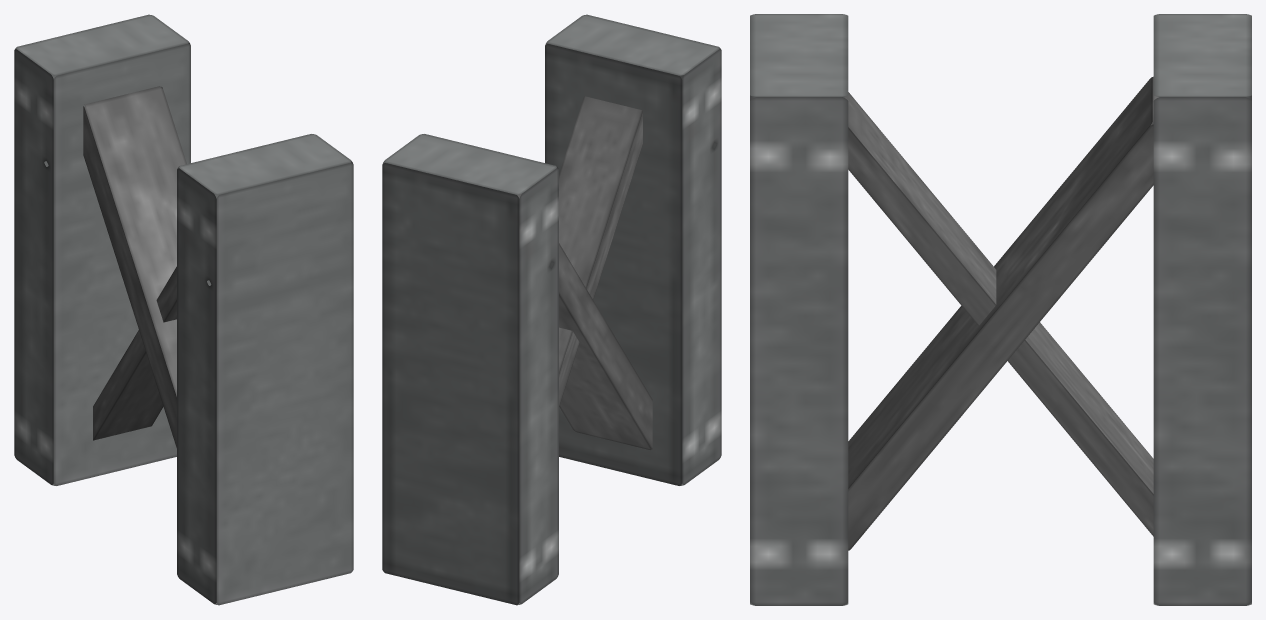
Rendered from Bigas.fbx.
3 renders of one model, left to right at view 1: azimuth 30°, elevation 25°; view 2: azimuth 150°, elevation 25°; view 3: azimuth 270°, elevation 25°, orthographic. The views are drawn at different scales.
Visible parts, largest first — view 1: cube_3, cube, cube_2, cube_1; view 2: cube, cube_3, cube_1, cube_2; view 3: cube, cube_3, cube_2, cube_1.
Part boxes in pixels (x1,y1,x2,y2): cube_3: [177, 134, 353, 605]; cube: [14, 14, 190, 485]; cube_2: [83, 86, 186, 447]; cube_1: [93, 266, 176, 440]; cube: [382, 134, 558, 605]; cube_3: [545, 14, 721, 485]; cube_1: [559, 96, 642, 406]; cube_2: [517, 194, 652, 449]; cube: [1153, 14, 1251, 605]; cube_3: [750, 14, 848, 605]; cube_2: [848, 76, 1158, 550]; cube_1: [843, 92, 1153, 536].
Bounding box in the file's own units: 17.5 × 50 × 44.69.
Materials: 2 (2 with a texture image).
